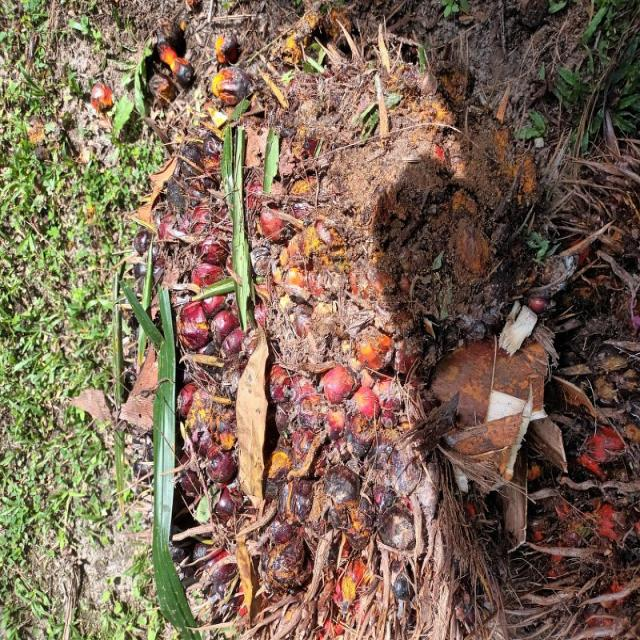fraksi 1: (144, 0, 541, 617)
